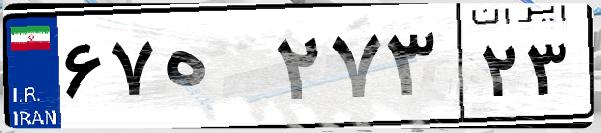2: (270, 28, 330, 110), (475, 38, 525, 113)
3: (385, 28, 445, 110), (525, 38, 570, 115)
6: (57, 26, 110, 100)
7: (330, 28, 385, 110), (110, 28, 158, 98)
ه: (158, 20, 270, 120)
